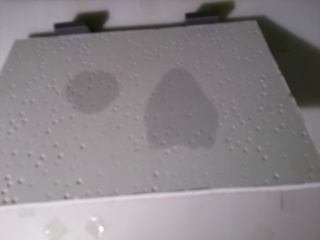Water_detected: (154, 77, 216, 136), (80, 78, 112, 111)
